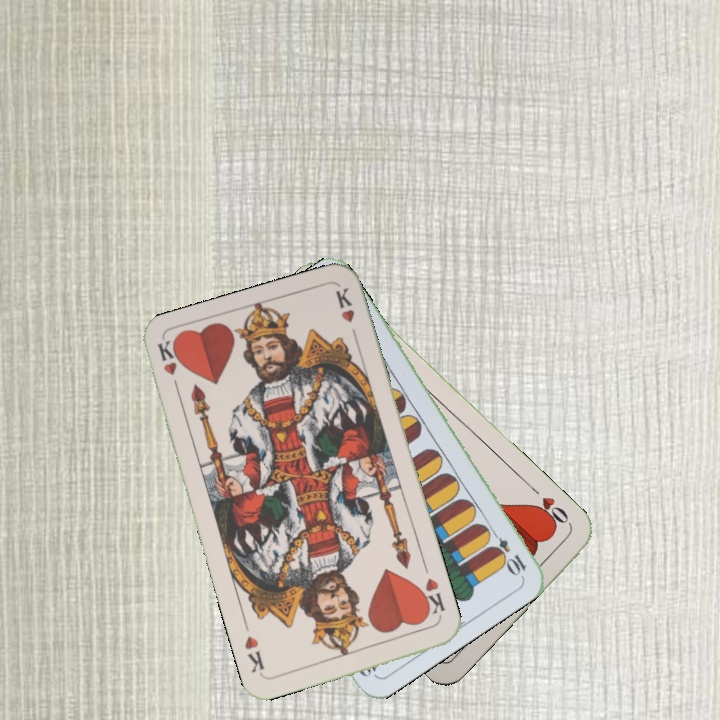E10: (485, 524, 529, 578)
HK: (153, 337, 183, 397), (415, 574, 448, 622)
HO: (526, 482, 573, 530)
